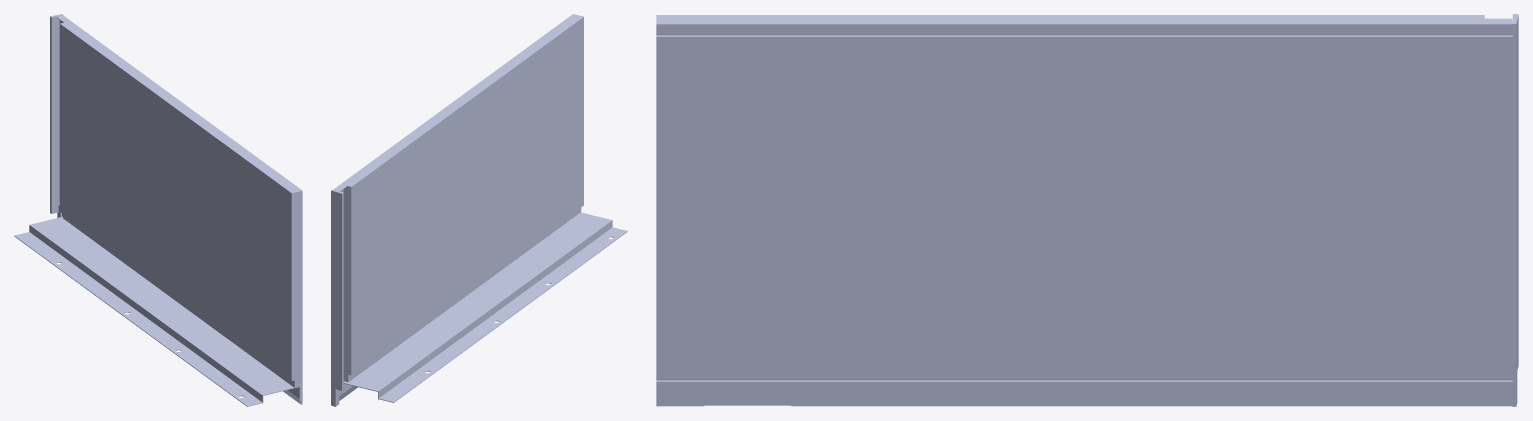
File: lg-kava-F500-m.glb
The picture shows the model from 3 angles, left to right: view 1: azimuth 30°, elevation 25°; view 2: azimuth 150°, elevation 25°; view 3: azimuth 270°, elevation 25°; orthographic projection. The views are drawn at different scales.
Visible parts, largest first — view 1: 40580298; view 2: 40580298; view 3: 40580298.
Part boxes in pixels (<box>): 40580298: <box>14,14,302,406</box>; 40580298: <box>331,14,627,406</box>; 40580298: <box>656,14,1518,406</box>.
Size of the model in its own units: 0.0653 by 0.2417 by 0.4935.
